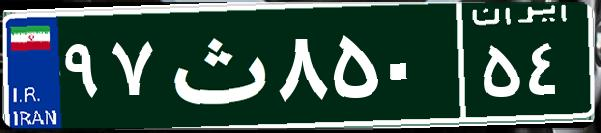0: (385, 28, 445, 110)
4: (525, 38, 570, 115)
5: (330, 28, 385, 110), (475, 38, 525, 113)
7: (110, 28, 158, 105)
8: (273, 28, 330, 110)
9: (57, 26, 110, 107)
ث: (158, 15, 273, 115)
